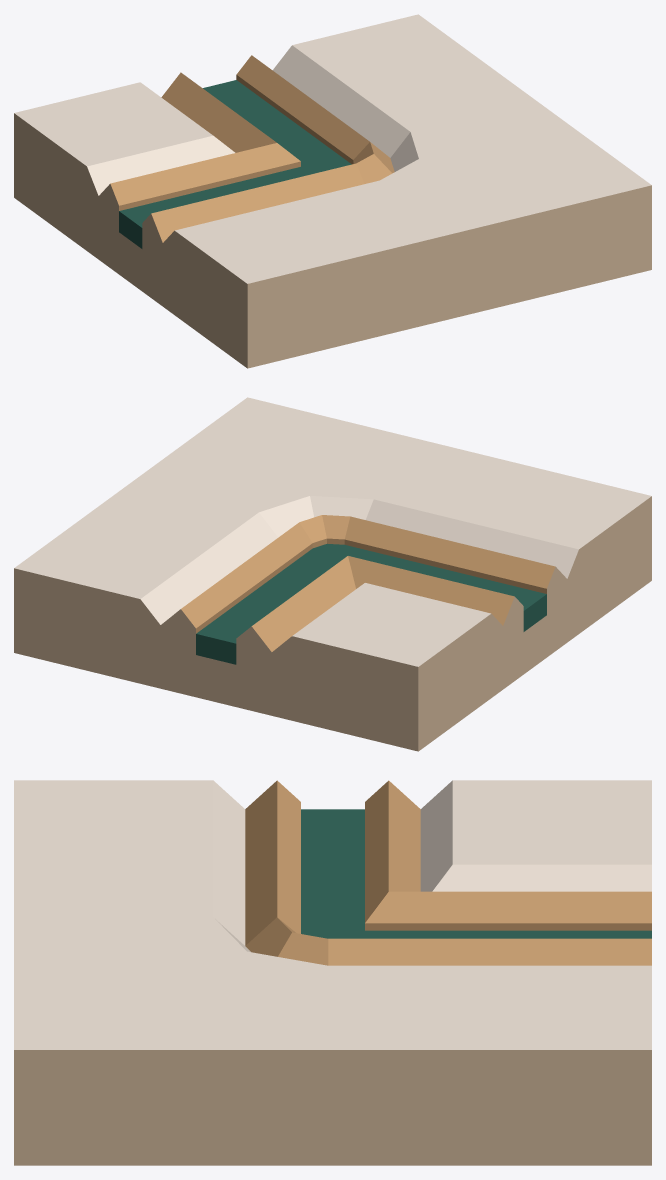
File: Puzzle_Floor_Conduit_Standard_Corner.fbx
3 views of the same model, one above another, from view 1: azimuth 30°, elevation 25°; view 2: azimuth 150°, elevation 25°; view 3: azimuth 270°, elevation 25° (orthographic). The views are drawn at different scales.
Parts seen in each view (by area): view 1: Sandstone_Floor.Sandstone_Floor.Sandstone_Floor.object2, Sandstone_Trim.Sandstone_Trim.Sandstone_Trim, Sandstone_5.Sandstone_5.Sandstone_5, object1; view 2: Sandstone_Floor.Sandstone_Floor.Sandstone_Floor.object2, Sandstone_Trim.Sandstone_Trim.Sandstone_Trim, Sandstone_5.Sandstone_5.Sandstone_5, object1; view 3: Sandstone_Floor.Sandstone_Floor.Sandstone_Floor.object2, Sandstone_Trim.Sandstone_Trim.Sandstone_Trim, Sandstone_5.Sandstone_5.Sandstone_5, object1.
Boxes of the visible parts, bbox=[...] form: Sandstone_Floor.Sandstone_Floor.Sandstone_Floor.object2: bbox=[14, 14, 651, 283]; Sandstone_Trim.Sandstone_Trim.Sandstone_Trim: bbox=[14, 113, 651, 368]; Sandstone_5.Sandstone_5.Sandstone_5: bbox=[110, 55, 394, 242]; object1: bbox=[119, 80, 351, 248]; Sandstone_Floor.Sandstone_Floor.Sandstone_Floor.object2: bbox=[14, 397, 651, 666]; Sandstone_Trim.Sandstone_Trim.Sandstone_Trim: bbox=[14, 496, 651, 751]; Sandstone_5.Sandstone_5.Sandstone_5: bbox=[181, 515, 555, 651]; object1: bbox=[196, 543, 546, 664]; Sandstone_Floor.Sandstone_Floor.Sandstone_Floor.object2: bbox=[14, 780, 651, 1049]; Sandstone_Trim.Sandstone_Trim.Sandstone_Trim: bbox=[14, 1050, 651, 1165]; Sandstone_5.Sandstone_5.Sandstone_5: bbox=[245, 780, 651, 965]; object1: bbox=[301, 809, 651, 938].
Size of the model in its own units: 1 by 0.2 by 1.
